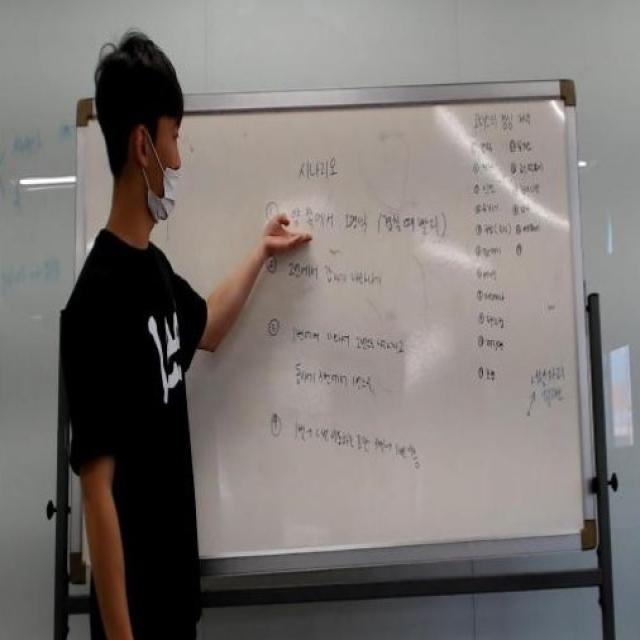Instructor: (61, 40, 200, 612)
White-board: (81, 87, 594, 576)
